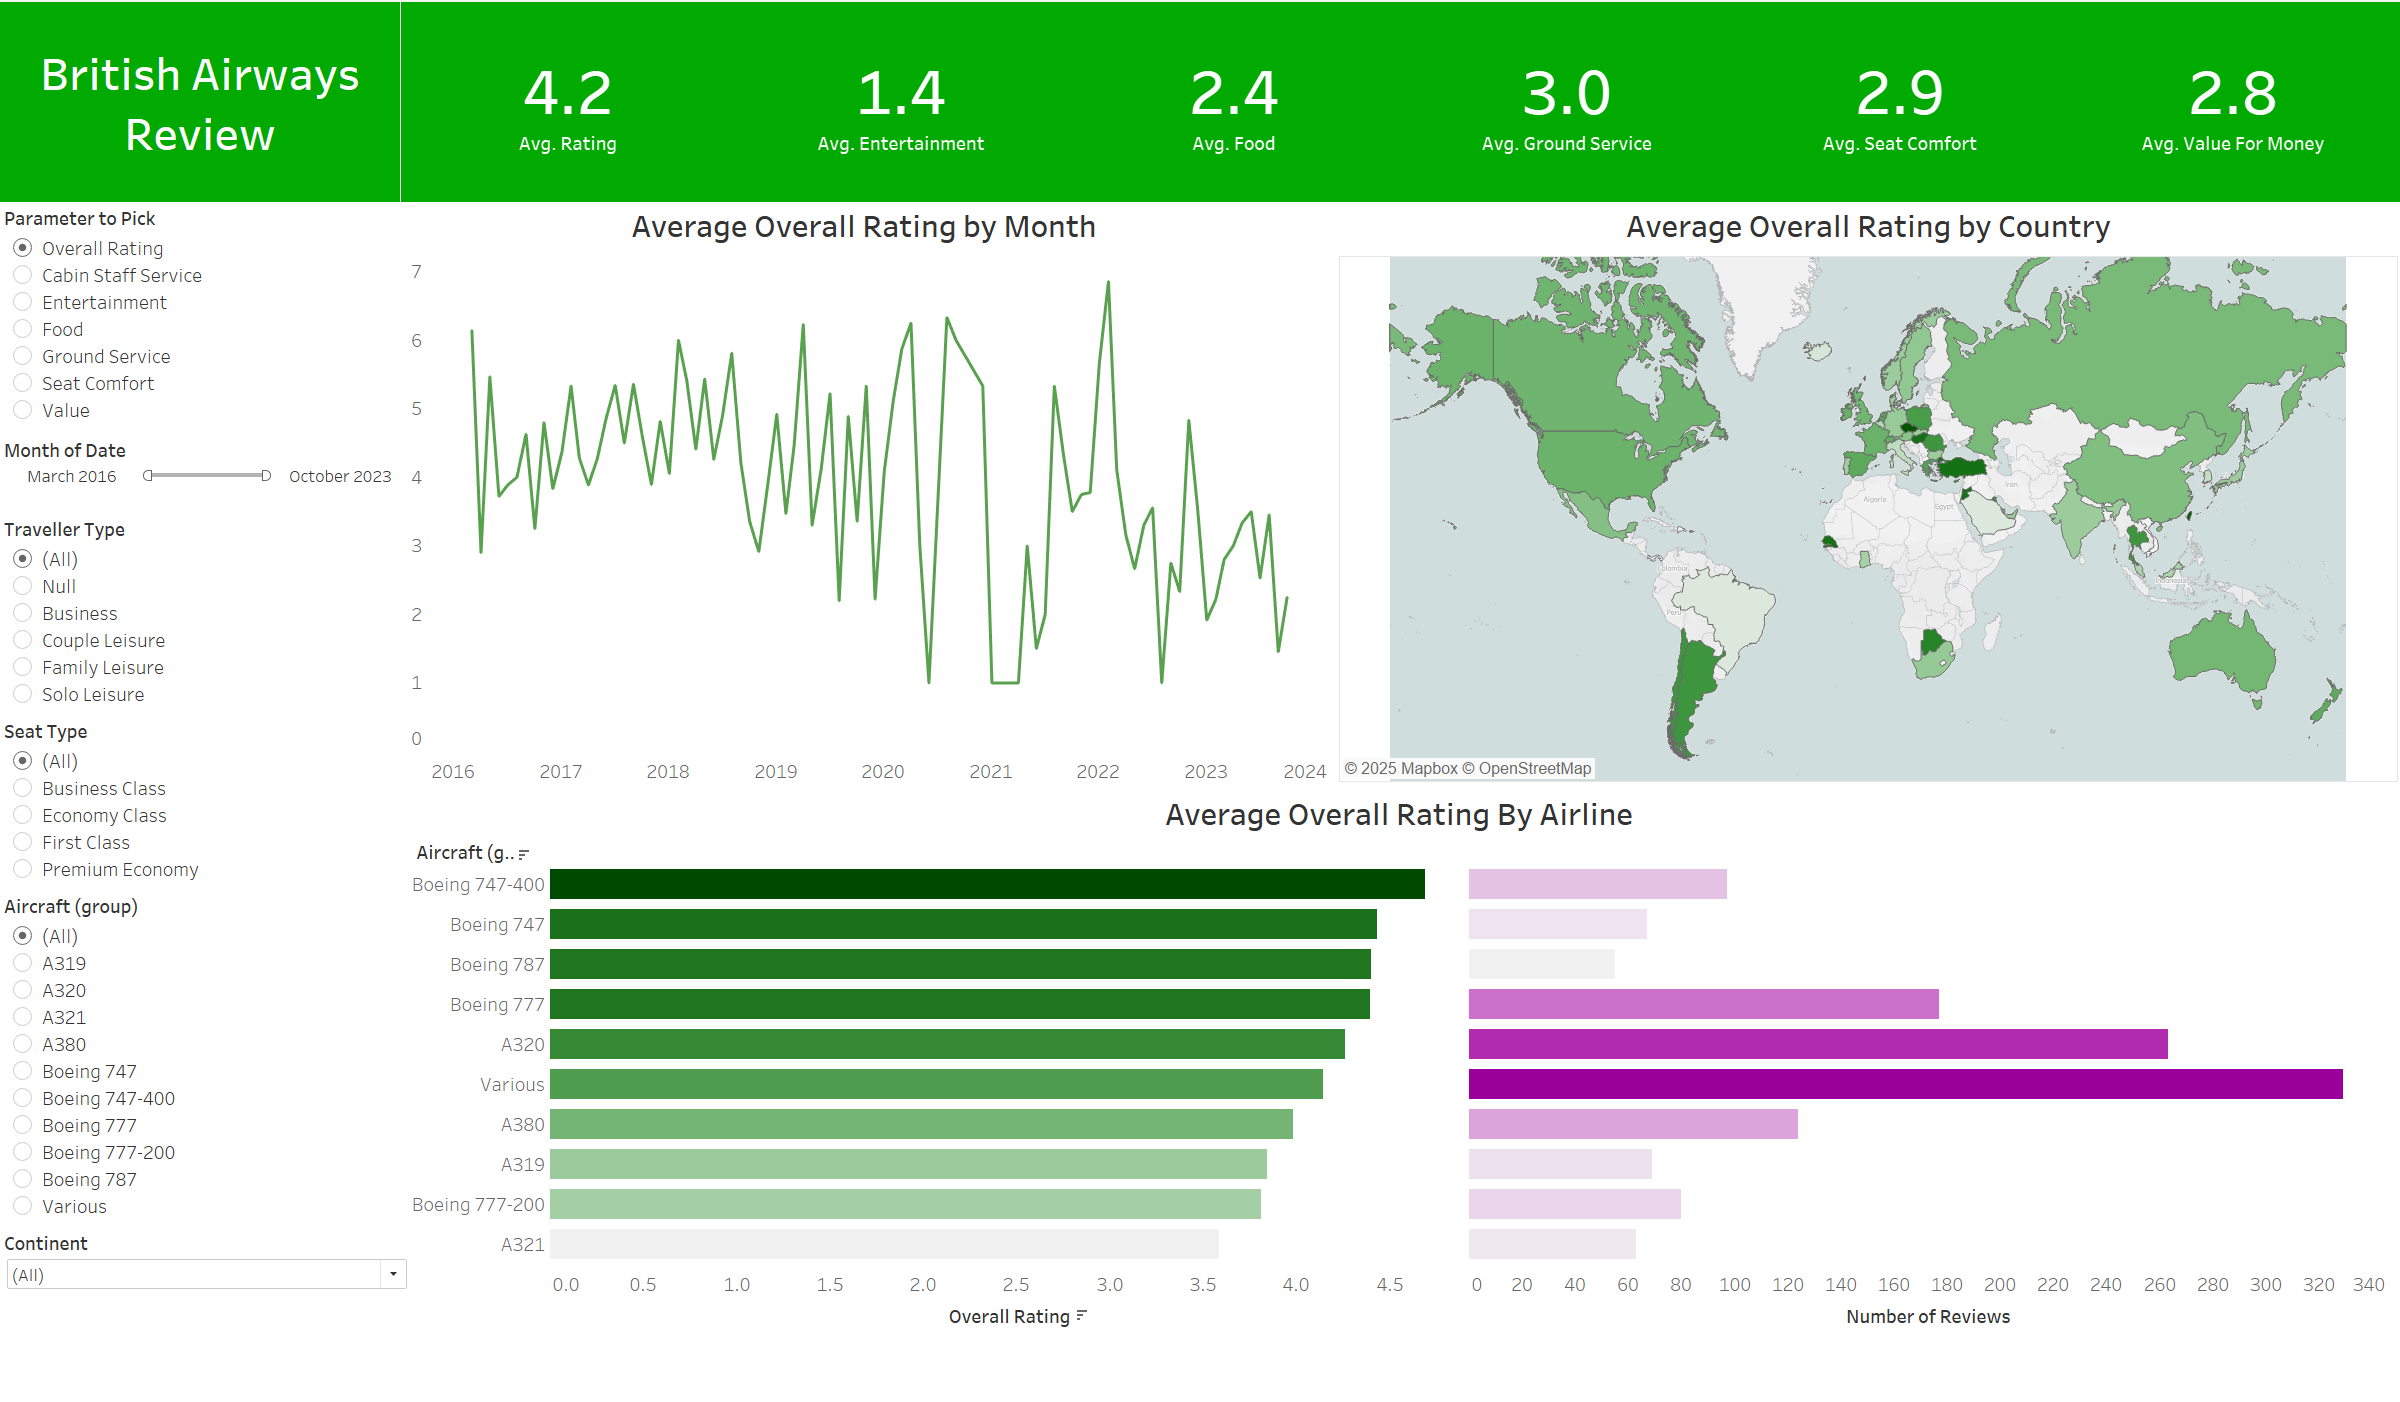

Layout of this report page (visuals, bound fields, positions):
{"tool":"tableau","page":{"name":"Dashboard 1","canvas":[2400,1400],"ordinal":0},"visuals":[{"type":"text","box":[0,0,400,200]},{"type":"worksheet","title":"Summary","mark":"Automatic","box":[401,0,1999,200]},{"type":"worksheet","title":"Line Chart","mark":"Automatic","rows":["Calculation_1643532442106482688"],"cols":["date"],"box":[399,198,930,583]},{"type":"worksheet","title":"Map","mark":"Multipolygon","box":[1339,198,1059,582]},{"type":"parameter","param":"[Parameters].[Parameter 1]","box":[0,199,414,232]},{"type":"filter","title":"Map","param":"[federated.03e89t51ku24rz1etdqkb1b3s6qo].[tmn:date:qk]","box":[0,431,414,79]},{"type":"filter","title":"Map","param":"[federated.03e89t51ku24rz1etdqkb1b3s6qo].[none:traveller_type:nk]","box":[0,510,414,202]},{"type":"filter","title":"Map","param":"[federated.03e89t51ku24rz1etdqkb1b3s6qo].[none:seat_type:nk]","box":[0,712,414,175]},{"type":"worksheet","title":"Sheet 4","mark":"Automatic","cols":["Calculation_1643532442106482688","ba_reviews.csv_D7CD83D279174104B9C050EDB3CEC4DC"],"box":[410,786,1979,614]},{"type":"filter","title":"Map","param":"[federated.03e89t51ku24rz1etdqkb1b3s6qo].[Aircraft (group)]","box":[0,887,414,337]},{"type":"filter","title":"Map","param":"[federated.03e89t51ku24rz1etdqkb1b3s6qo].[none:Continent:nk]","box":[0,1224,414,74]}]}

Visuals, with their boxes in screenshot pixels (x1, y1, x2, y2), scaled from the page's 2400x1400 canvas onto the 2400x1402 screenshot:
text: [0, 0, 400, 200]
"Summary" worksheet: [401, 0, 2399, 200]
"Line Chart" worksheet: [399, 198, 1329, 782]
"Map" worksheet (Multipolygon marks): [1339, 198, 2398, 781]
parameter: [0, 199, 414, 432]
"Map" filter: [0, 432, 414, 511]
"Map" filter: [0, 511, 414, 713]
"Map" filter: [0, 713, 414, 888]
"Sheet 4" worksheet: [410, 787, 2389, 1401]
"Map" filter: [0, 888, 414, 1226]
"Map" filter: [0, 1226, 414, 1300]
